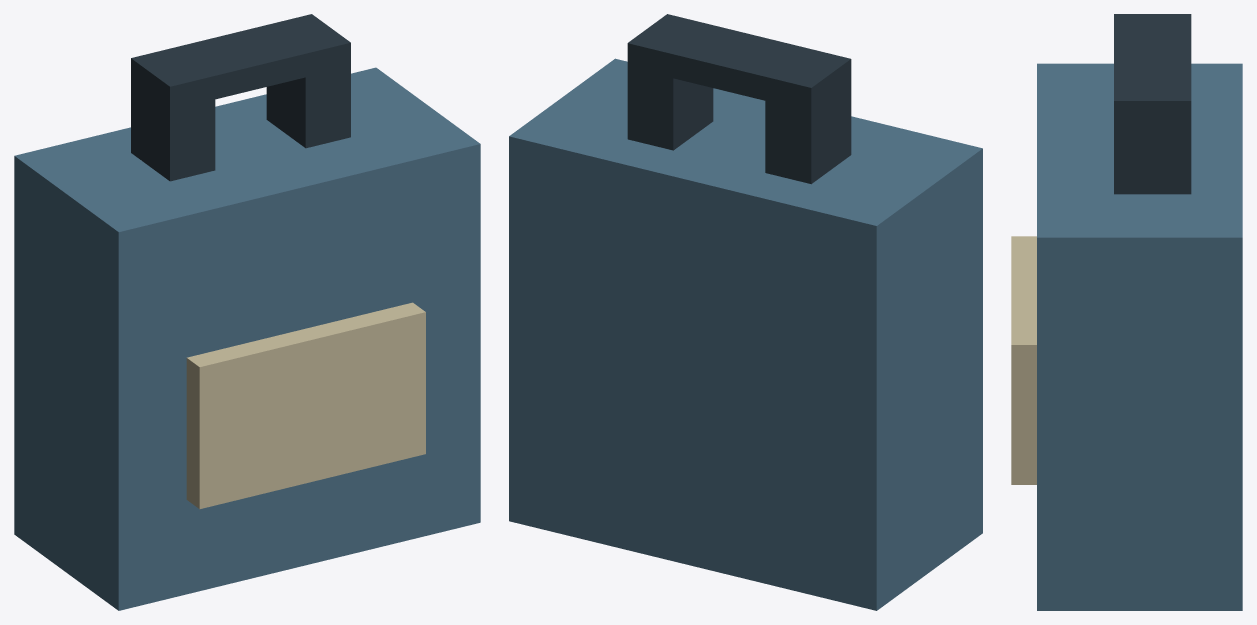
Rendered from security-10.glb.
3 renders of one model, left to right at view 1: azimuth 30°, elevation 25°; view 2: azimuth 150°, elevation 25°; view 3: azimuth 270°, elevation 25°, orthographic. The views are drawn at different scales.
Visible parts, largest first — view 1: Evidence case; view 2: Evidence case; view 3: Evidence case.
Part boxes in pixels (box(x1,y1,x2,y2)): Evidence case: box(14, 14, 480, 610); Evidence case: box(509, 14, 982, 610); Evidence case: box(1011, 14, 1242, 610).
Size of the model in its own units: 1.28 by 1.6 by 0.72.
